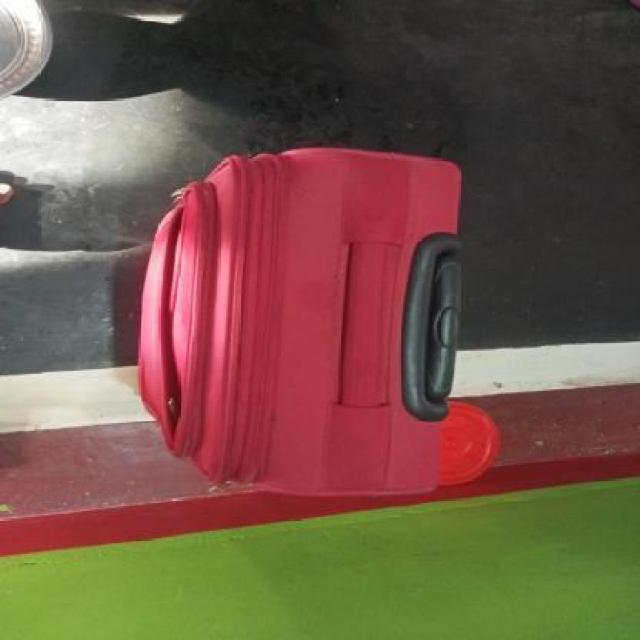backpack: (128, 140, 468, 506)
